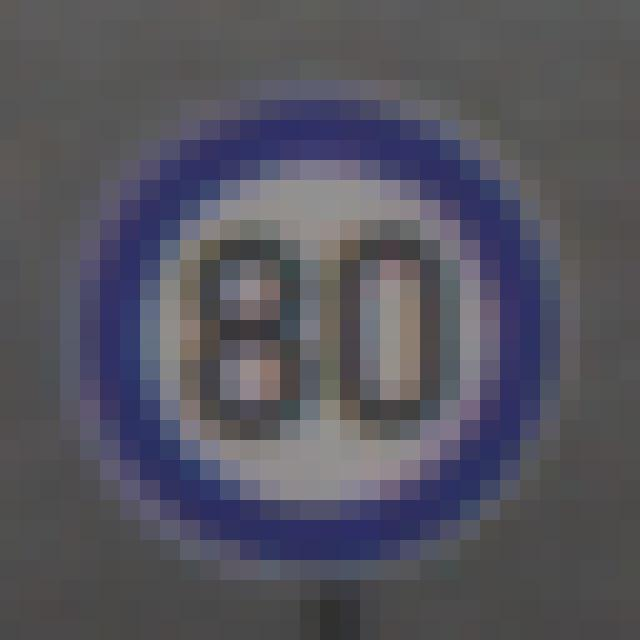SPEED-LIMIT-80: (80, 92, 552, 554)
